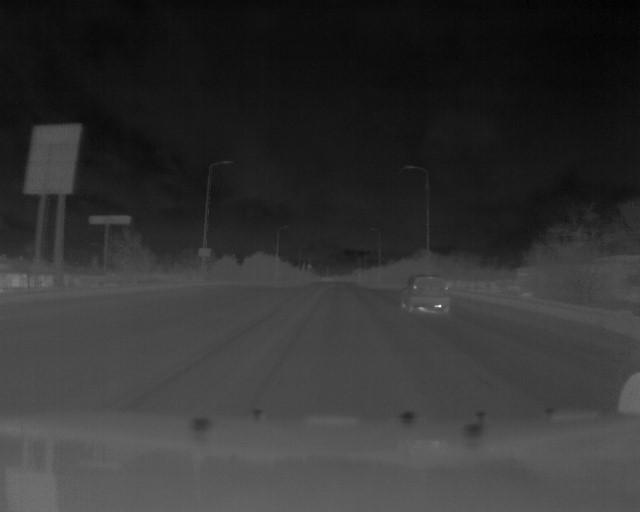car: (399, 276, 454, 320)
